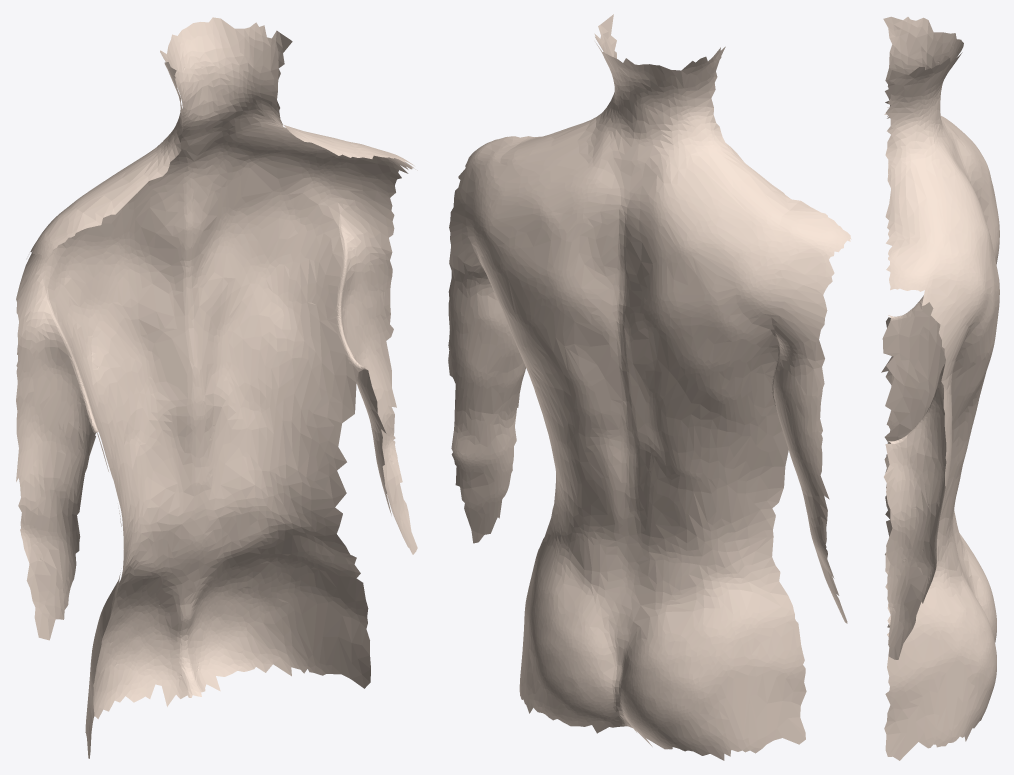
Rendered from columna-piel.glb.
3 views of the same model, side by side, from view 1: azimuth 30°, elevation 25°; view 2: azimuth 150°, elevation 25°; view 3: azimuth 270°, elevation 25° (orthographic). The views are drawn at different scales.
Parts seen in each view (by area): view 1: piel; view 2: piel; view 3: piel.
Part boxes in pixels (<box>): piel: <box>16,17,417,758</box>; piel: <box>448,14,851,760</box>; piel: <box>881,16,999,760</box>.
Size of the model in its own units: 0.4392 by 0.7519 by 0.1237.
